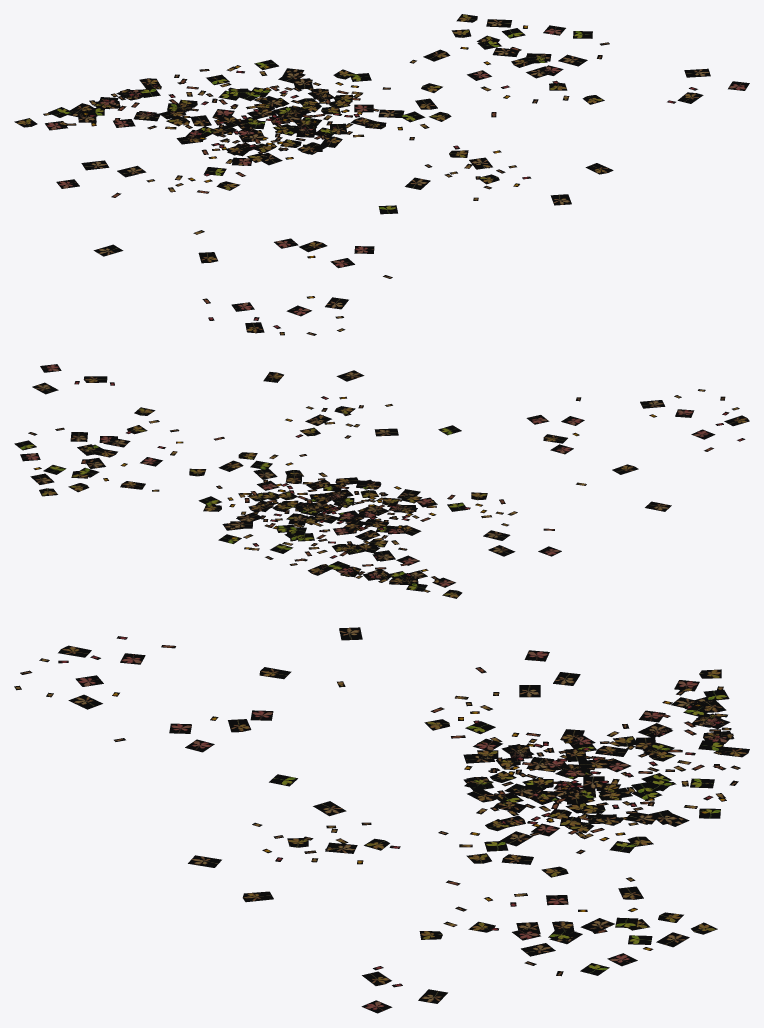
The model's file is leaf_pile_3.fbx.
The picture shows the model from 3 angles, top to bottom: view 1: azimuth 30°, elevation 25°; view 2: azimuth 150°, elevation 25°; view 3: azimuth 270°, elevation 25°; orthographic projection. The views are drawn at different scales.
Parts seen in each view (by area): view 1: leaf_pile_3; view 2: leaf_pile_3; view 3: leaf_pile_3.
Boxes of the visible parts, left/top/right/bottom form: leaf_pile_3: left=14, top=14, right=749, bottom=335; leaf_pile_3: left=14, top=364, right=749, bottom=598; leaf_pile_3: left=14, top=627, right=749, bottom=1013.
Size of the model in its own units: 103 by 1.65e-06 by 82.6.
